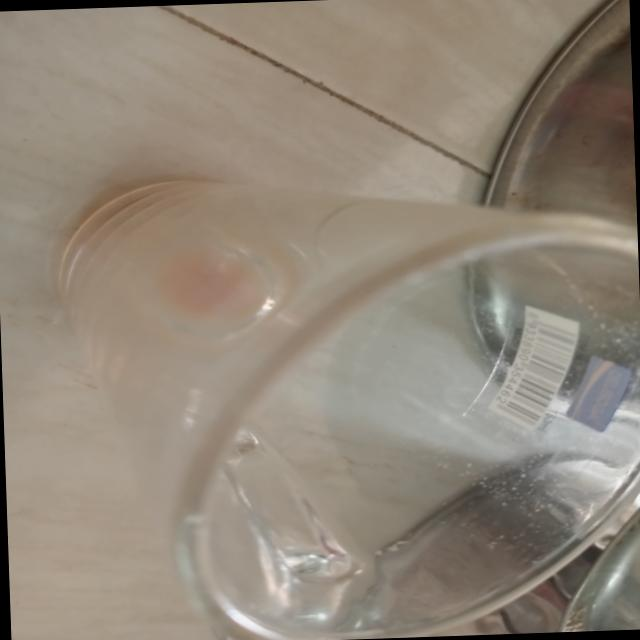glass-VX4N: (60, 157, 640, 640)
